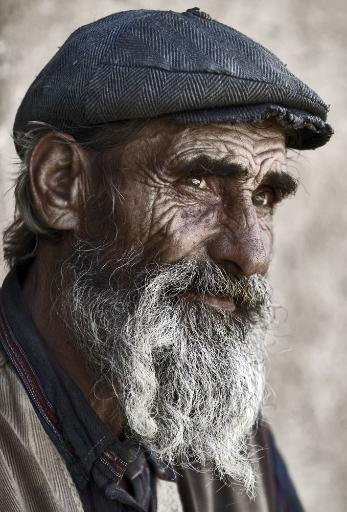left_eye: (252, 188, 280, 211)
right_eye: (173, 155, 219, 196)
